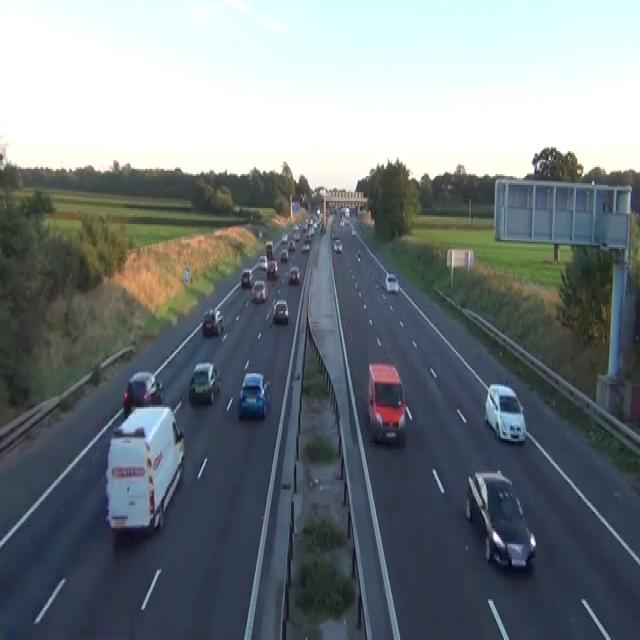Car: (465, 469, 536, 571), (367, 362, 406, 444), (484, 382, 526, 443), (123, 370, 163, 412), (238, 372, 270, 419), (188, 361, 220, 403), (202, 308, 224, 336), (272, 298, 289, 324), (381, 272, 399, 293), (251, 279, 267, 302), (240, 268, 253, 288), (266, 260, 278, 279), (288, 265, 300, 283), (258, 254, 267, 270), (333, 238, 342, 252), (280, 249, 288, 261), (319, 222, 326, 235), (301, 242, 309, 252), (281, 231, 288, 242), (288, 240, 295, 251), (293, 231, 300, 242), (356, 247, 361, 261), (332, 233, 338, 242), (344, 218, 350, 226), (293, 224, 299, 231), (351, 226, 356, 234), (339, 218, 344, 226), (316, 206, 320, 215), (258, 228, 262, 236), (357, 247, 360, 254)
Truck: (104, 404, 185, 534)
